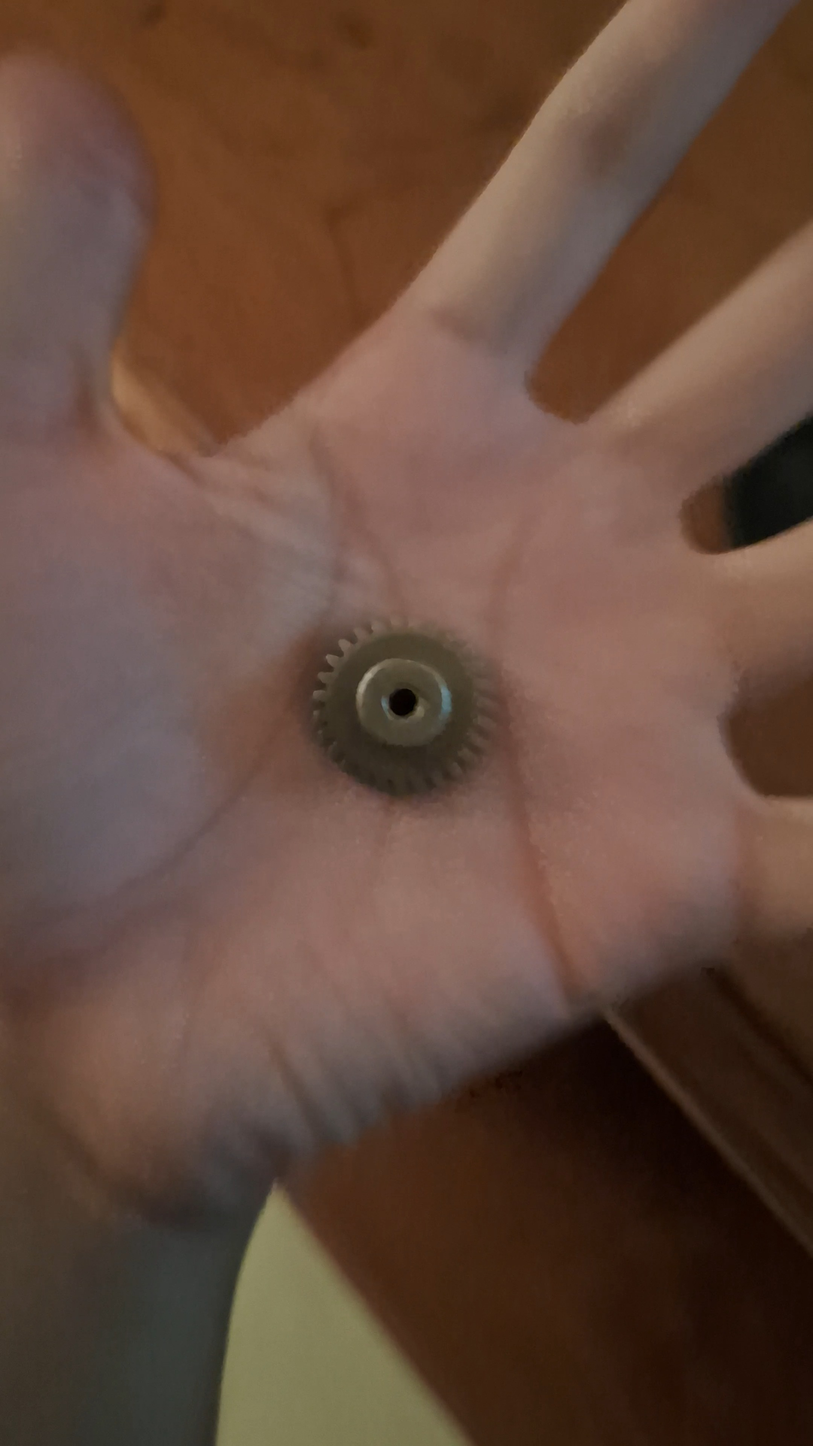spur gear: (314, 623, 493, 795)
